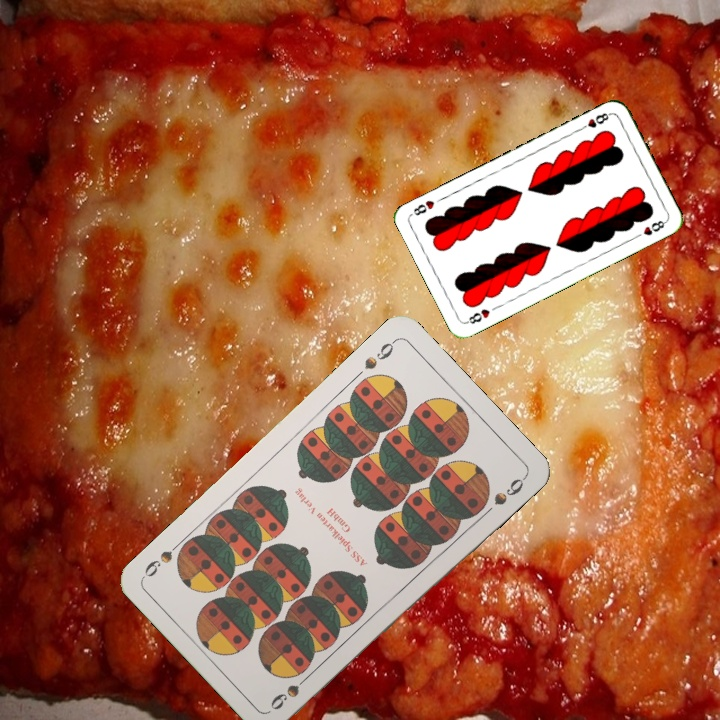H8: (576, 109, 613, 133), (462, 305, 493, 327)
S9: (266, 668, 315, 713), (360, 335, 399, 372)
